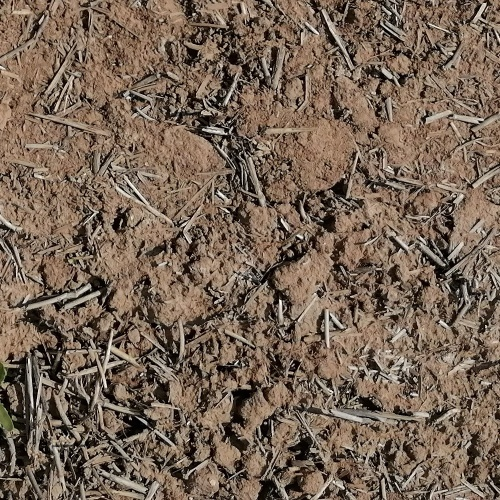beet: (0, 356, 16, 433)
